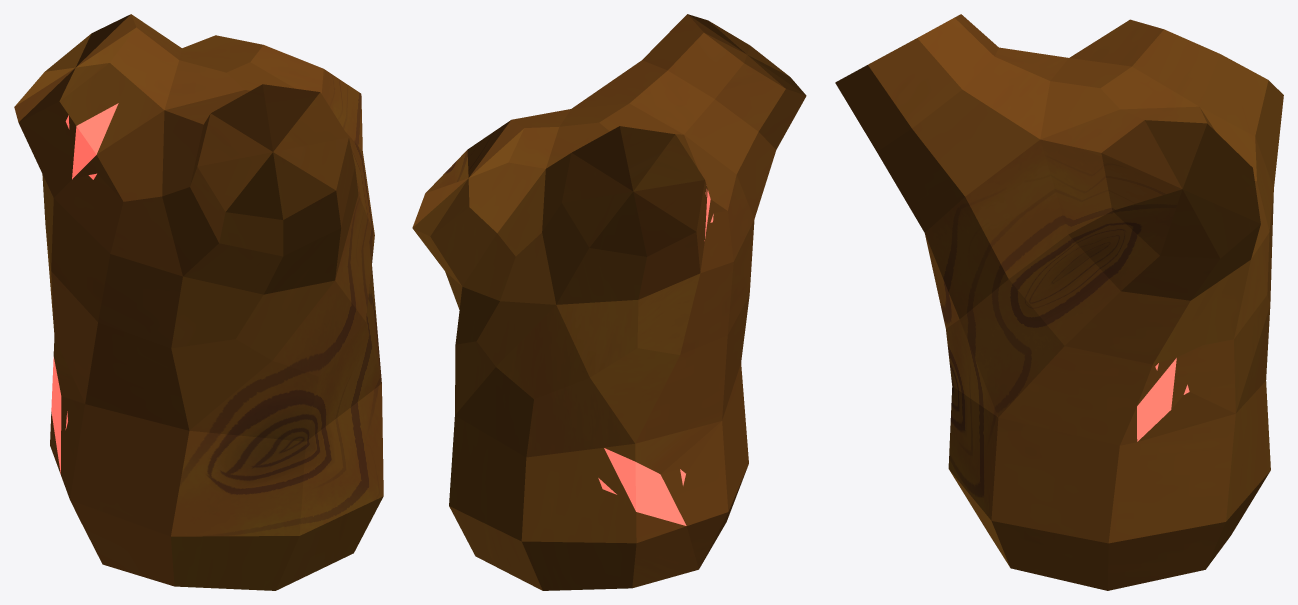
The model's file is Sappling.fbx.
3 renders of one model, left to right at view 1: azimuth 30°, elevation 25°; view 2: azimuth 150°, elevation 25°; view 3: azimuth 270°, elevation 25°, orthographic. The views are drawn at different scales.
Parts seen in each view (by area): view 1: Tree; view 2: Tree; view 3: Tree.
Part boxes in pixels (bbox=[...]): Tree: bbox=[14, 14, 383, 590]; Tree: bbox=[412, 14, 806, 590]; Tree: bbox=[835, 14, 1283, 590].
Size of the model in its own units: 45.22 by 74.08 by 57.38.
